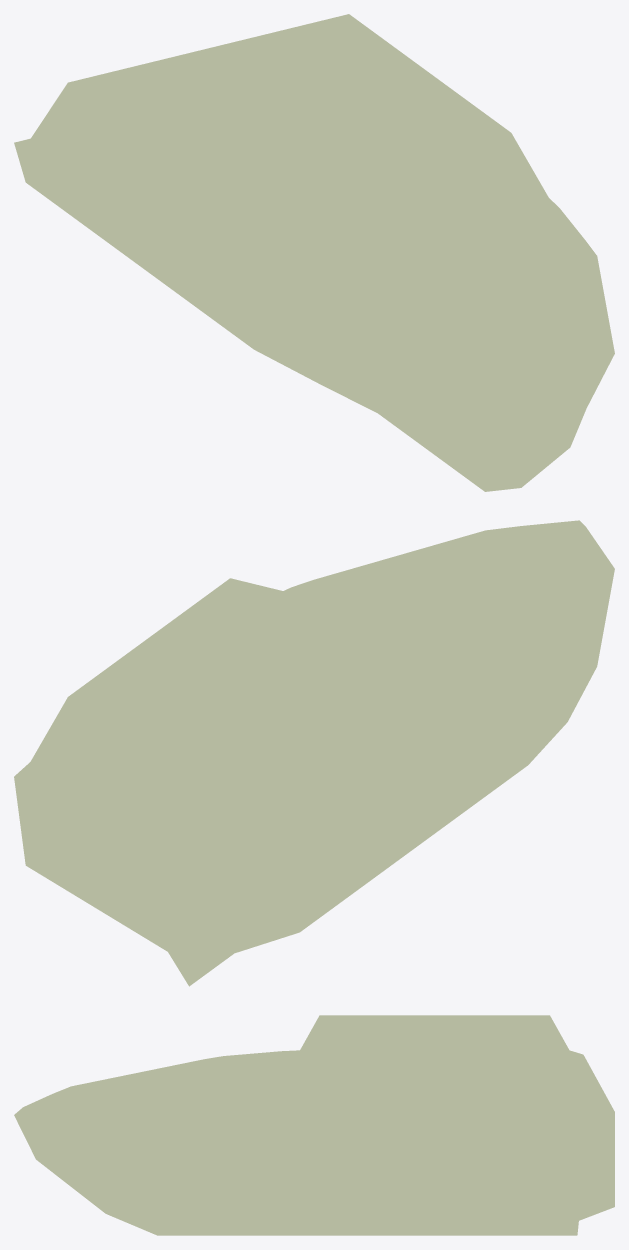
Rendered from speedboat.dae.
3 views of the same model, one above another, from view 1: azimuth 30°, elevation 25°; view 2: azimuth 150°, elevation 25°; view 3: azimuth 270°, elevation 25° (orthographic). The views are drawn at different scales.
Visible parts, largest first — view 1: Cube1-0; view 2: Cube1-0; view 3: Cube1-0.
Part boxes in pixels (bbox=[...]): Cube1-0: bbox=[14, 14, 614, 491]; Cube1-0: bbox=[14, 520, 614, 986]; Cube1-0: bbox=[14, 1015, 614, 1235].
Bounding box in the file's own units: 0.9724 × 0.6554 × 2.08.
